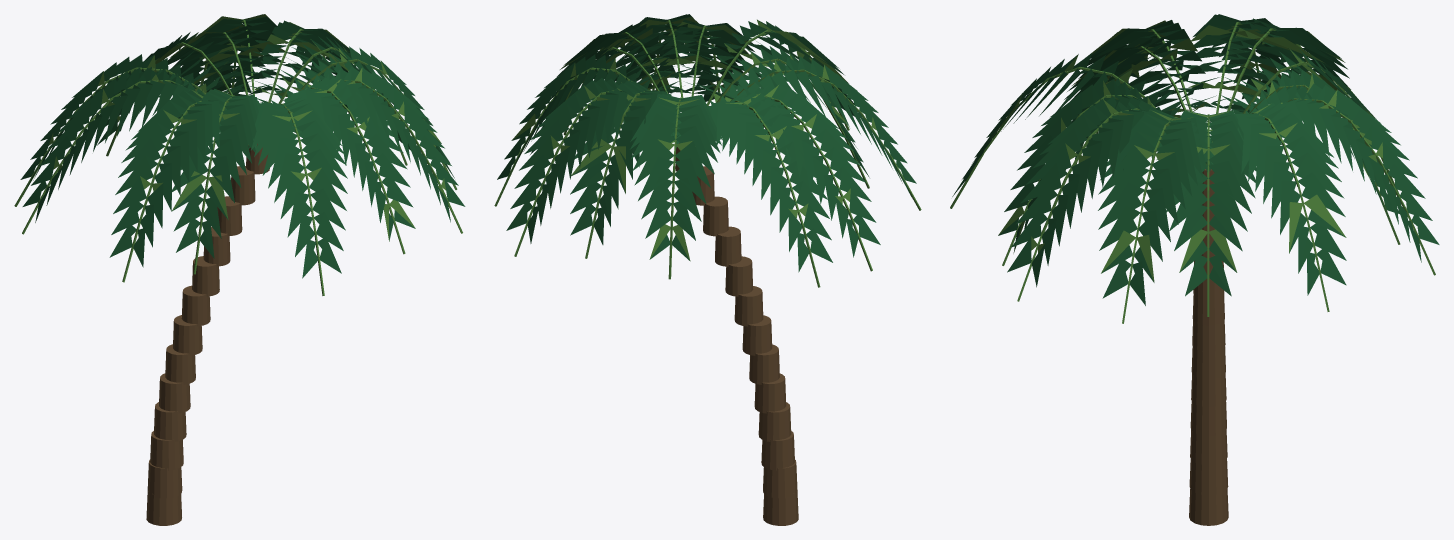
The model's file is QuaysidePalm.dae.
The picture shows the model from 3 angles, left to right: view 1: azimuth 30°, elevation 25°; view 2: azimuth 150°, elevation 25°; view 3: azimuth 270°, elevation 25°; orthographic projection. The views are drawn at different scales.
Visible parts, largest first — view 1: foliage, trunk, leaflit; view 2: foliage, trunk, leaflit; view 3: foliage, leaflit, trunk.
Part boxes in pixels (bbox=[...]): foliage: bbox=[20, 14, 465, 278]; trunk: bbox=[146, 144, 269, 525]; leaflit: bbox=[14, 14, 462, 295]; foliage: bbox=[497, 14, 916, 272]; trunk: bbox=[675, 143, 798, 525]; leaflit: bbox=[494, 16, 921, 287]; foliage: bbox=[952, 14, 1439, 305]; leaflit: bbox=[950, 20, 1435, 323]; trunk: bbox=[1189, 169, 1228, 525].
Bounding box in the file's own units: 6.94 × 7.67 × 6.9.
